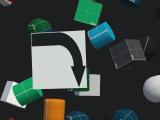Right: (31, 30, 87, 90)
